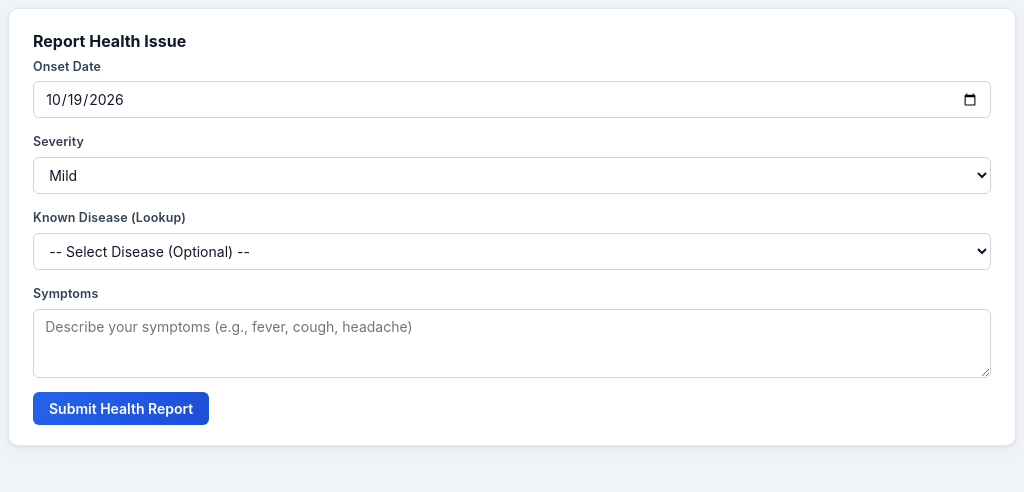
Test: Student Components › SelfReportForm › submits health report when form is filled
The width and height of the screenshot is (1024, 492).
In the text box labelled "Symptoms": point(512, 343) [33, 309, 991, 378], type "Fever and cough"
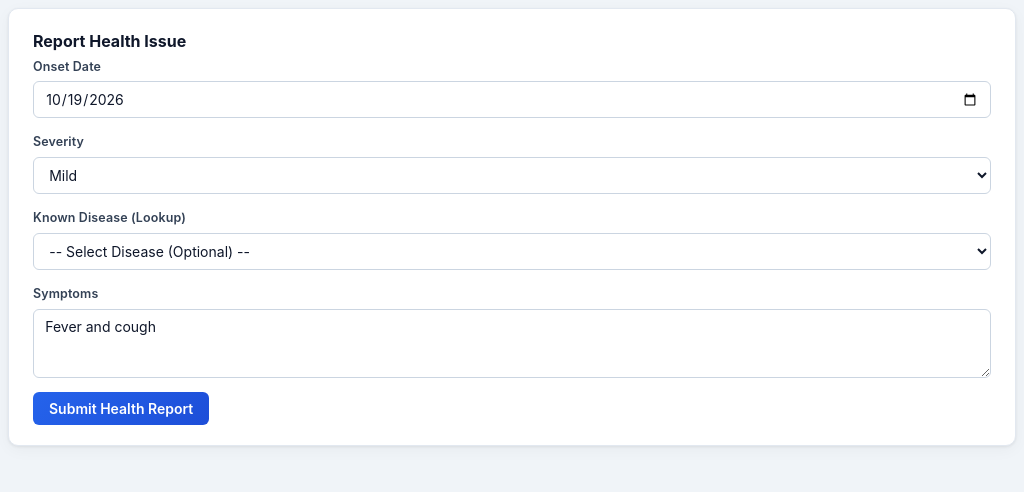
Click the button "Submit Health Report": point(121, 408) [33, 392, 209, 425]
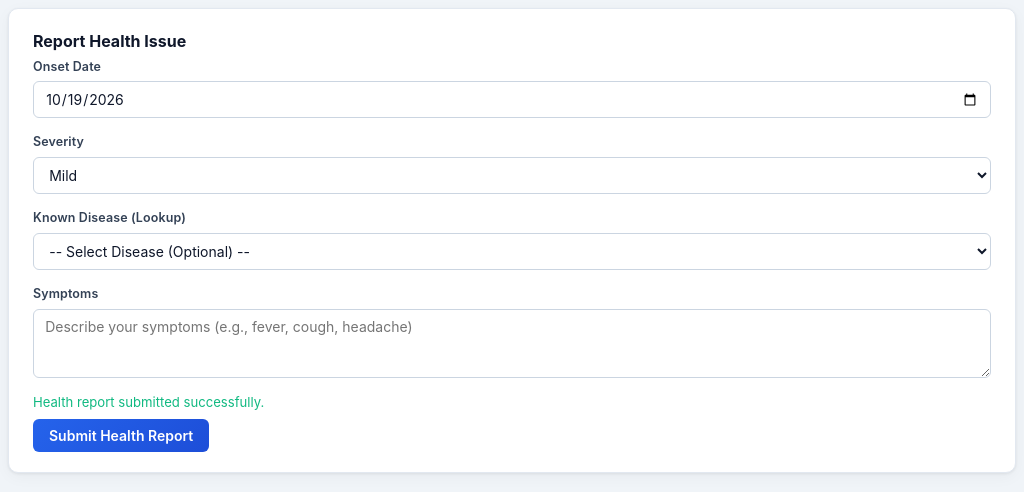
Now the text "Health report submitted successfully." is shown, box [33, 394, 264, 410]
